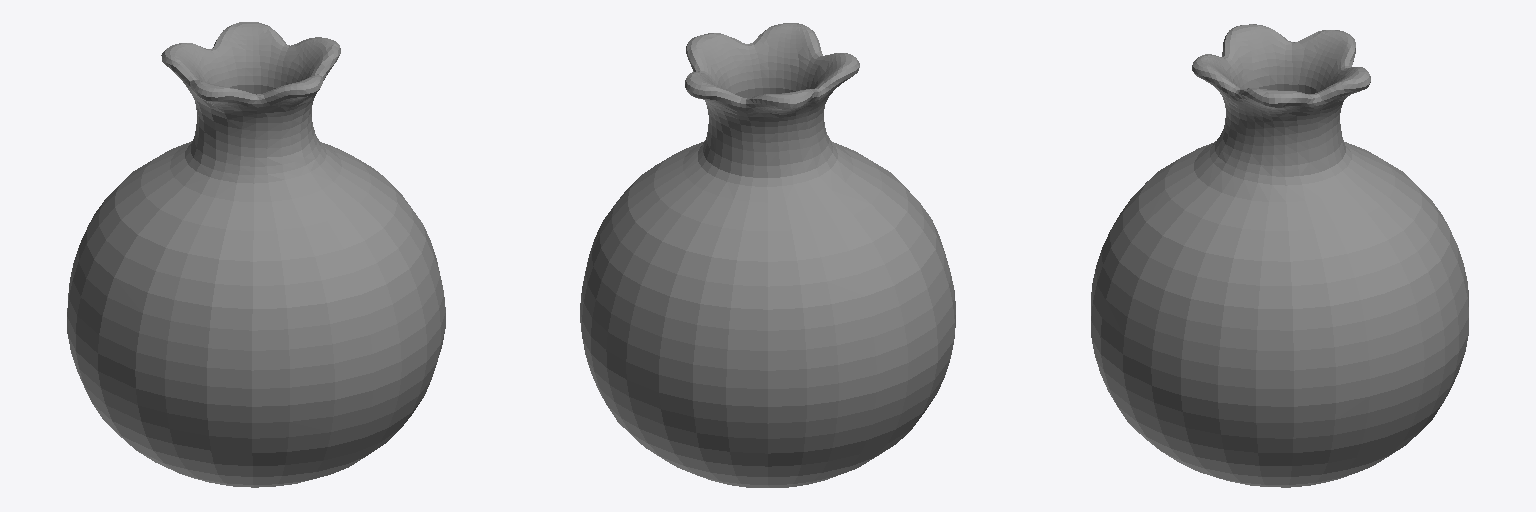
3 renders of one model, left to right at view 1: azimuth 30°, elevation 25°; view 2: azimuth 150°, elevation 25°; view 3: azimuth 270°, elevation 25°, orthographic.
Visible parts, largest first — view 1: SZB_ZL_51; view 2: SZB_ZL_51; view 3: SZB_ZL_51.
Part boxes in pixels (left/top/right/bottom): SZB_ZL_51: left=67, top=22, right=445, bottom=487; SZB_ZL_51: left=580, top=23, right=955, bottom=487; SZB_ZL_51: left=1091, top=24, right=1468, bottom=487.
Bounding box in the file's own units: 15867 × 18499 × 15863.